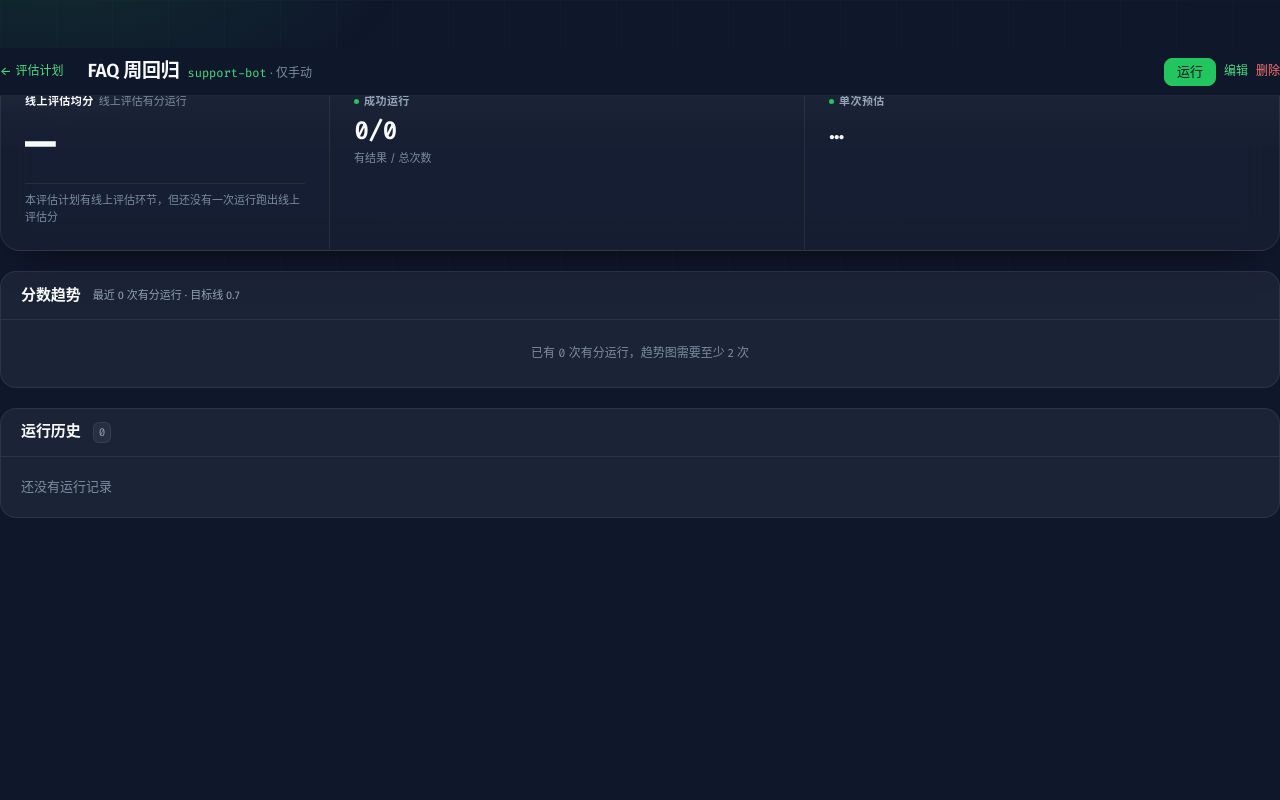
it: PlanDetailPage 删除流程（ConfirmCard 替代 window.confirm） › 点删除 → 卡出现（title=删除方案，body 含方案名与归档文案）；取消不发请求
Expected: the text "FAQ 周回归" is shown, [88,59,180,82]
Click the button with test id "plan-delete" at (1268, 72), box [1256,63,1279,80]
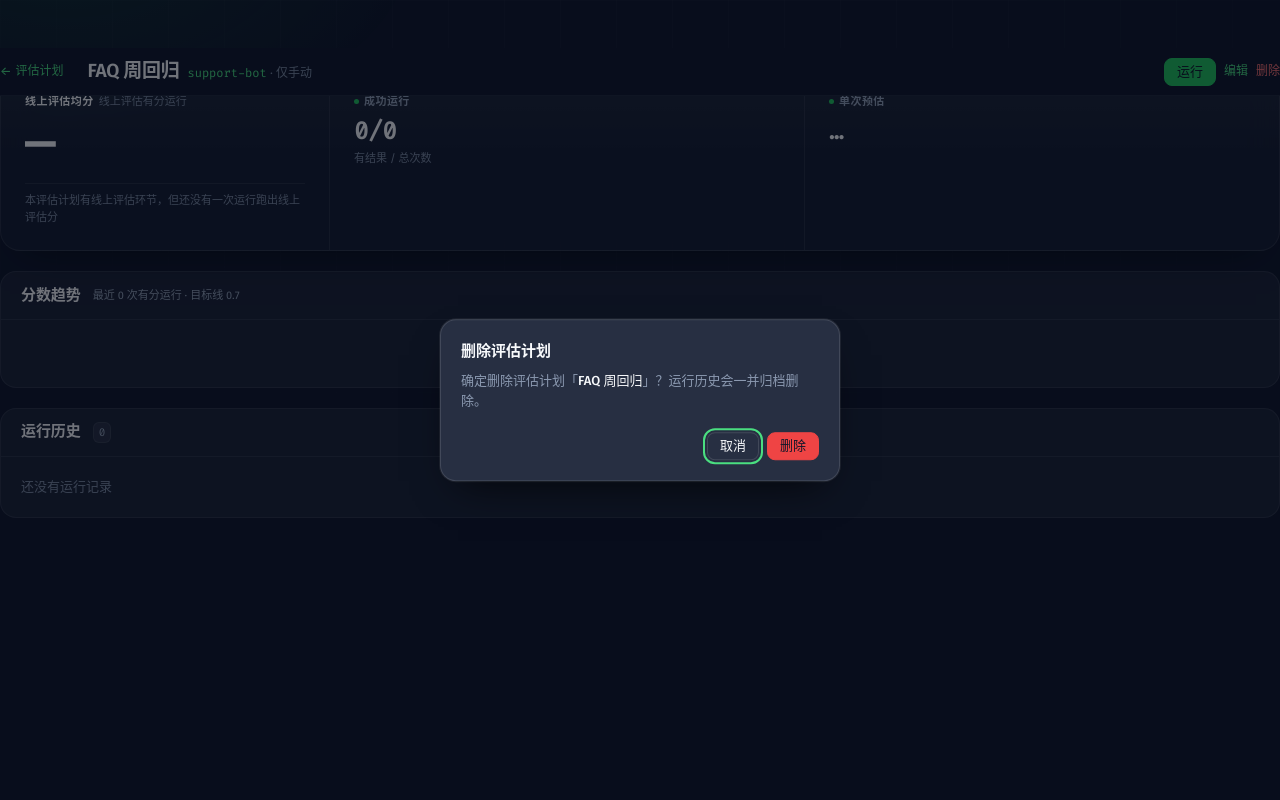
Expected: the dialog with test id "confirm-card" shows "删除评估计划", [461,342,551,360]
Expected: the dialog with test id "confirm-card" shows "FAQ 周回归", [578,374,642,388]
Expected: the dialog with test id "confirm-card" shows "运行历史会一并归档删除", [461,374,798,409]
Click the button with test id "confirm-card-cancel" at (733, 446), box [707,432,759,460]
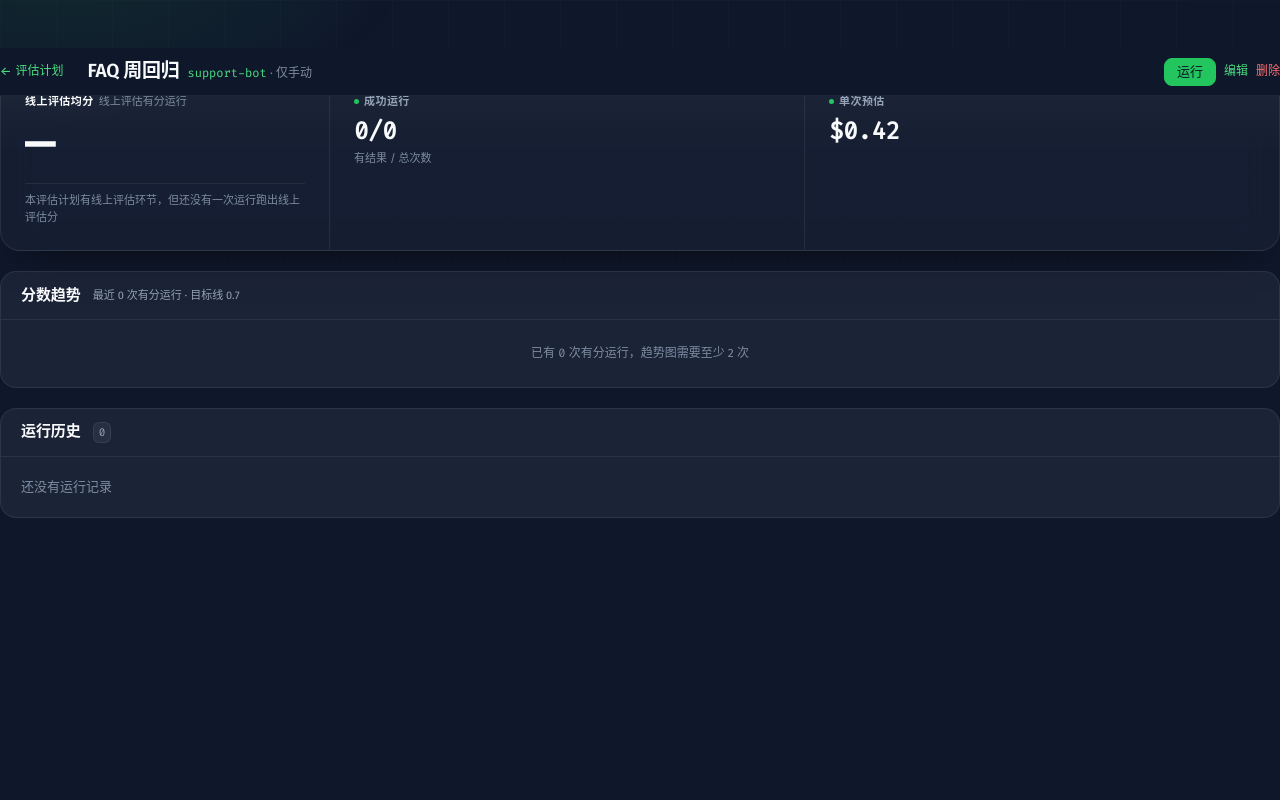
Expected: the dialog with test id "confirm-card" is gone
